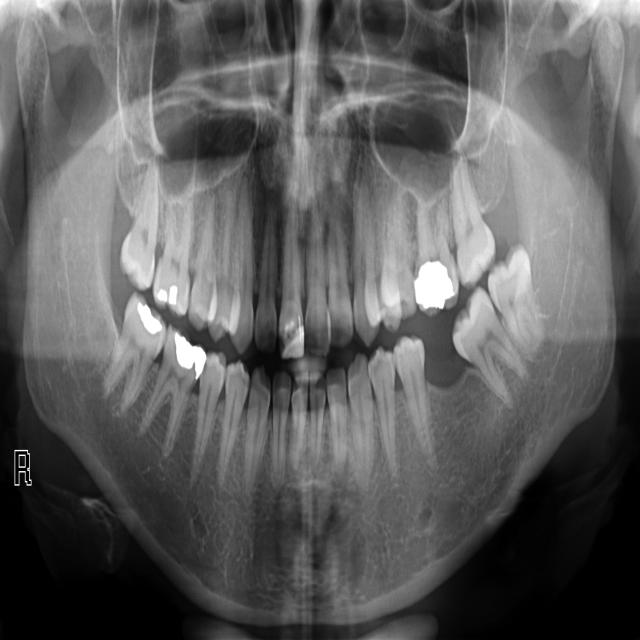tooth: (451, 286, 521, 406), (103, 293, 163, 411), (140, 331, 195, 453), (488, 246, 543, 345), (450, 158, 492, 282), (378, 190, 415, 327), (414, 203, 458, 313), (121, 163, 160, 286), (351, 175, 378, 343), (153, 201, 192, 308), (232, 185, 255, 349), (280, 198, 303, 354), (189, 195, 216, 327), (256, 196, 279, 350), (196, 355, 226, 468), (303, 212, 327, 353), (220, 361, 248, 476), (370, 348, 396, 471), (327, 223, 352, 346), (395, 337, 426, 436), (347, 354, 374, 465), (248, 365, 271, 475), (327, 364, 348, 462), (272, 371, 291, 473), (292, 372, 308, 466), (310, 371, 327, 456)
